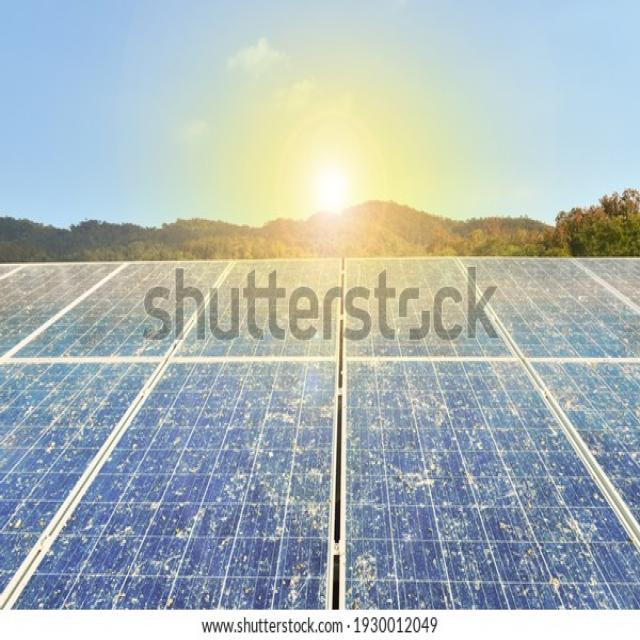dust-solar-panel: (0, 252, 640, 611)
